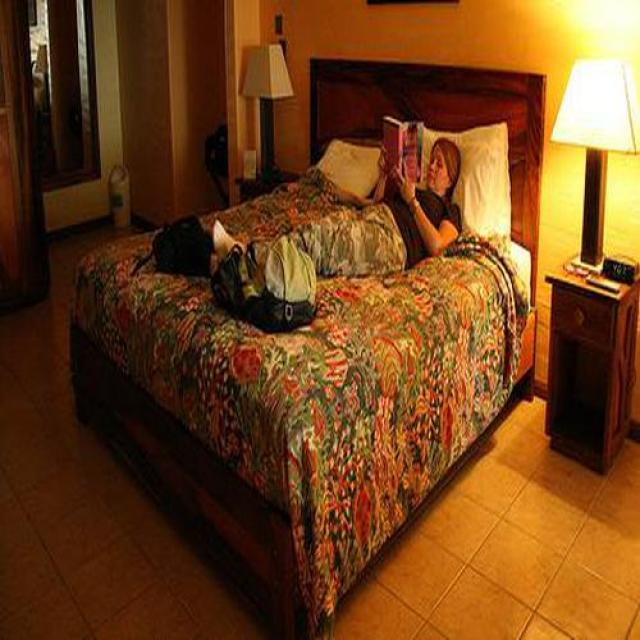bed: (68, 60, 545, 640)
